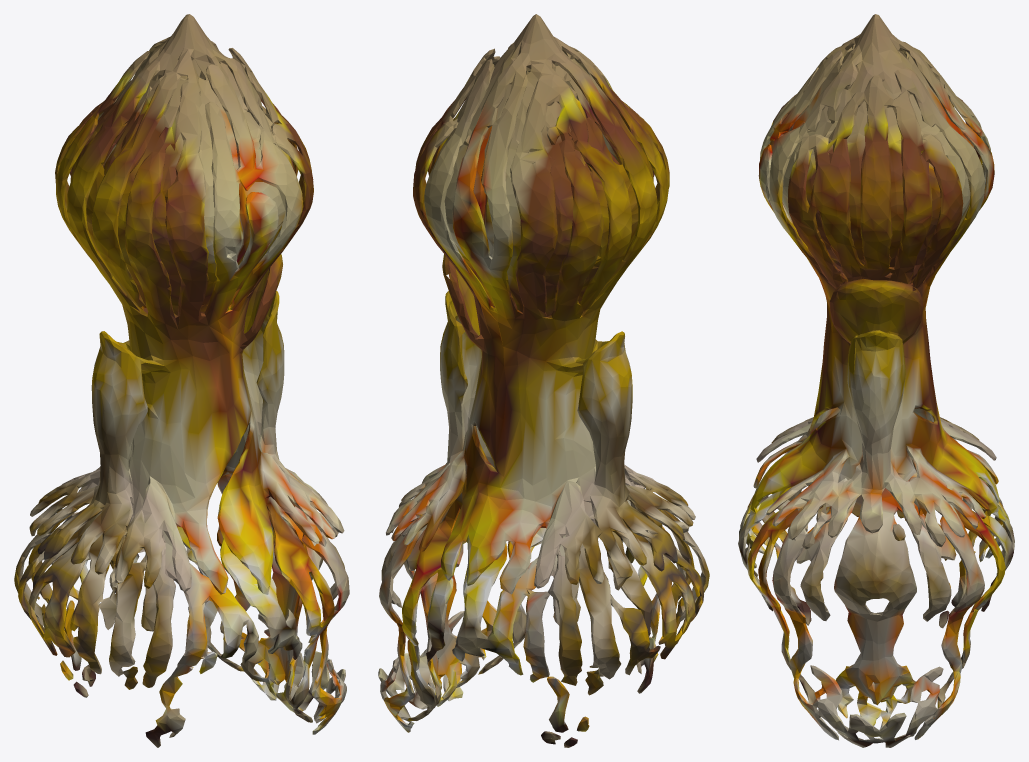
File: fungalLord.glb
3 renders of one model, left to right at view 1: azimuth 30°, elevation 25°; view 2: azimuth 150°, elevation 25°; view 3: azimuth 270°, elevation 25°, orthographic. The views are drawn at different scales.
Visible parts, largest first — view 1: world; view 2: world; view 3: world.
Part boxes in pixels (box(x1,y1,x2,y2)): world: box(14, 14, 349, 747); world: box(378, 14, 709, 747); world: box(738, 14, 1014, 747).
Size of the model in its own units: 0.4253 by 1 by 0.3691.
